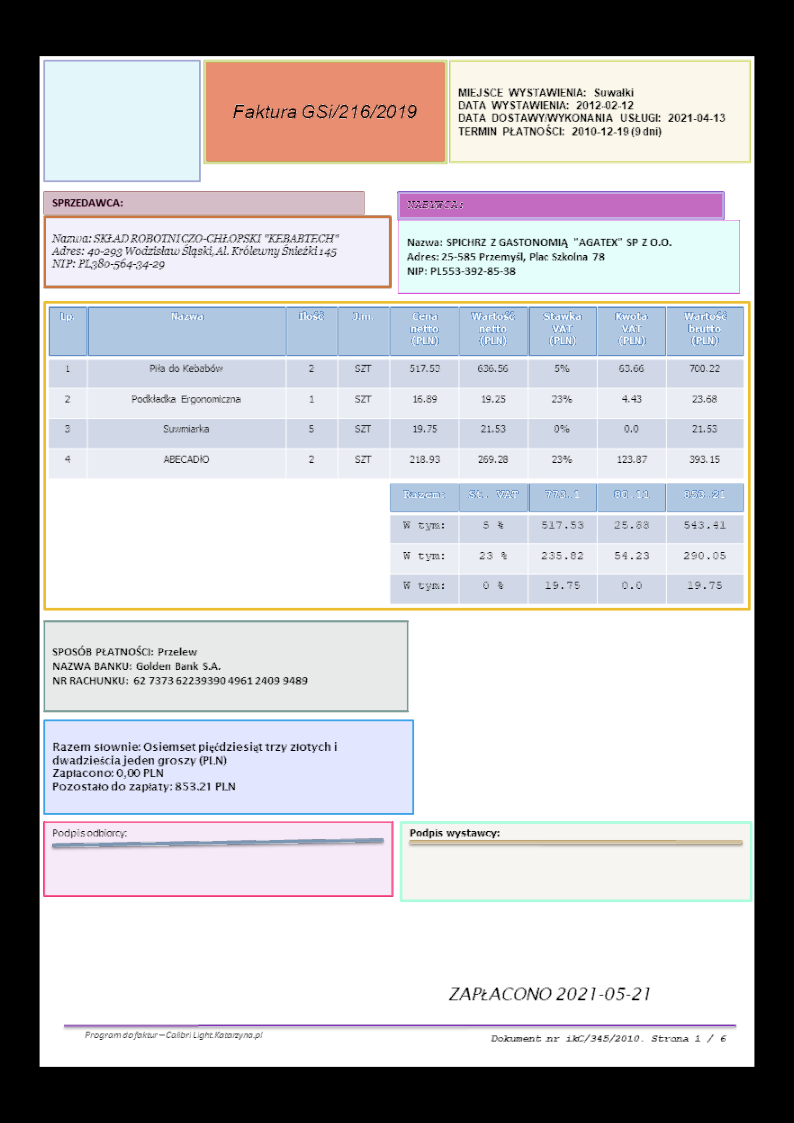Table: (47, 305, 744, 480), (389, 483, 744, 605)
TextBox: (51, 739, 340, 794), (456, 84, 726, 138), (50, 232, 343, 272), (51, 644, 309, 687), (405, 236, 674, 277), (446, 983, 652, 1006), (230, 101, 418, 121), (488, 1032, 728, 1045), (82, 1029, 266, 1043), (407, 826, 501, 841), (50, 826, 128, 841), (50, 196, 123, 209), (406, 198, 464, 211)
